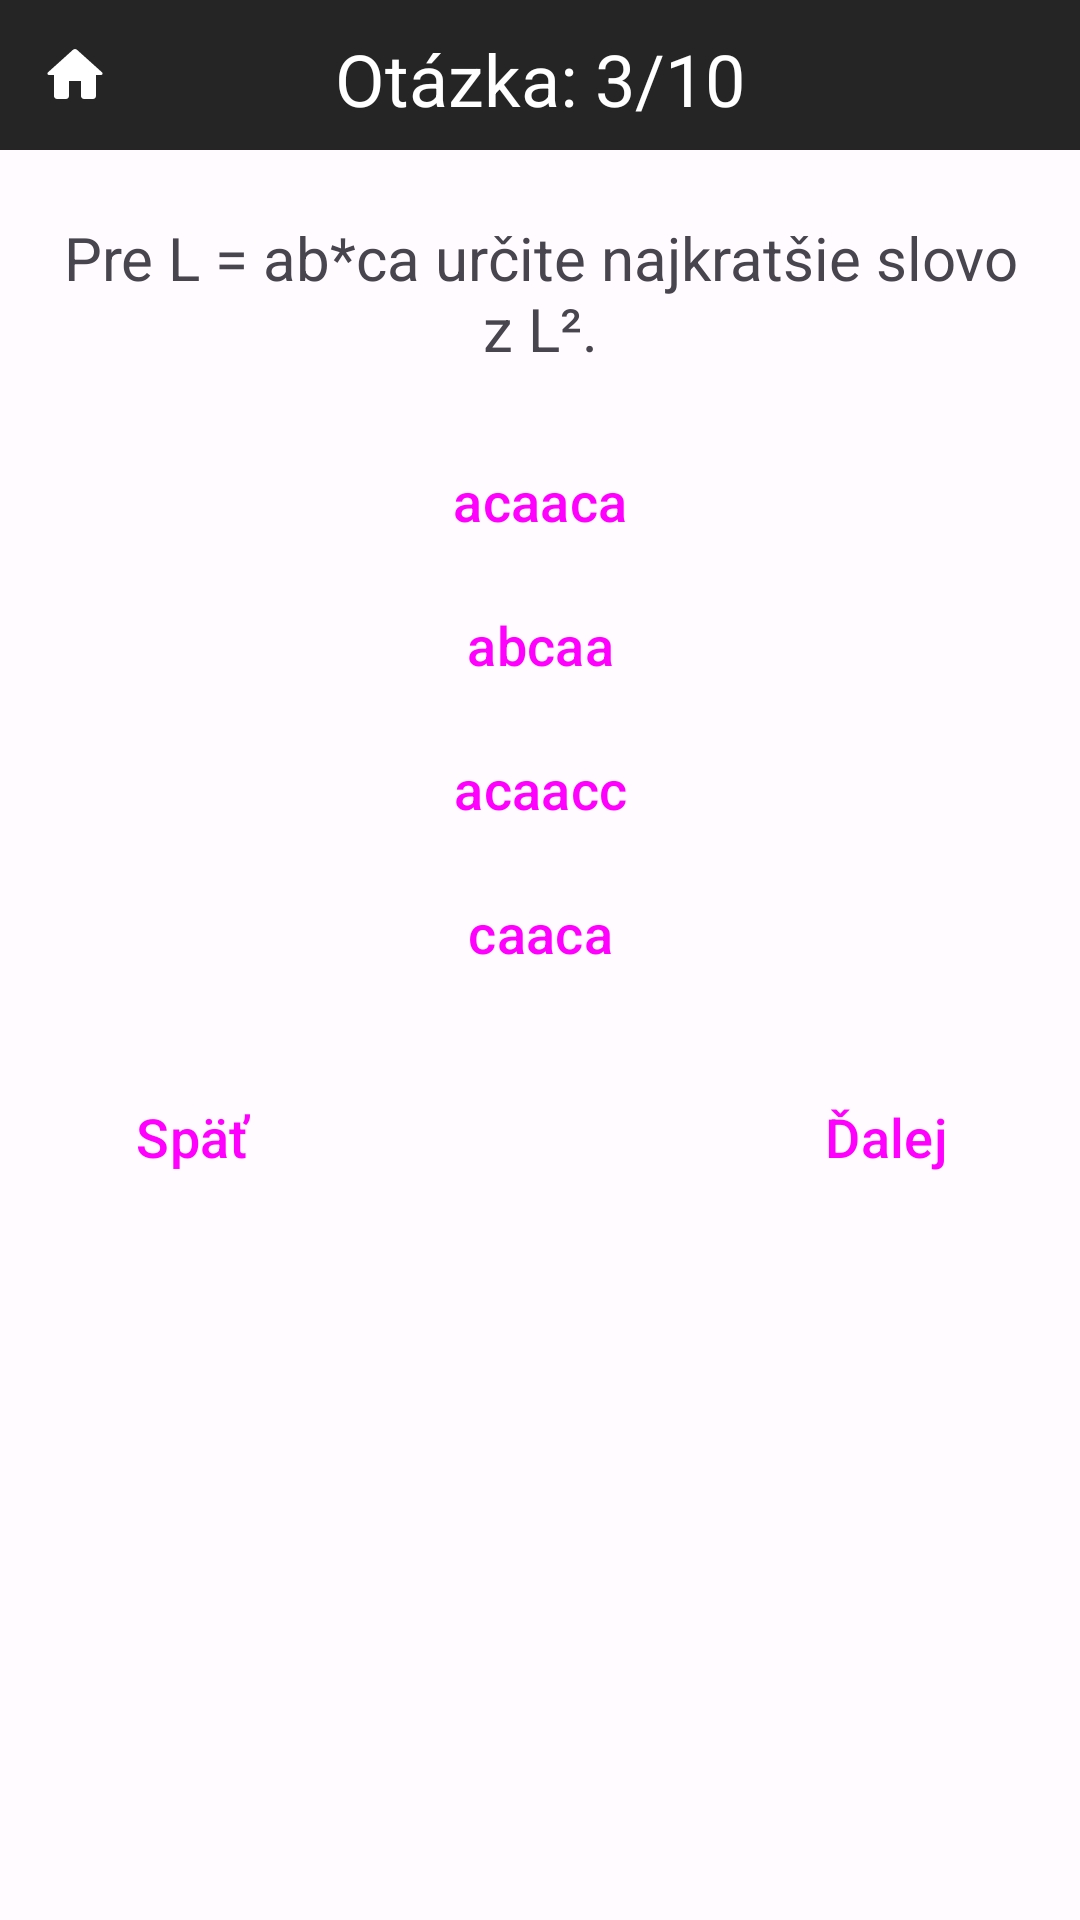

Icon click points for this 1080w x 1920h phone screenshot, format [x,y]:
domov: [75,74]
